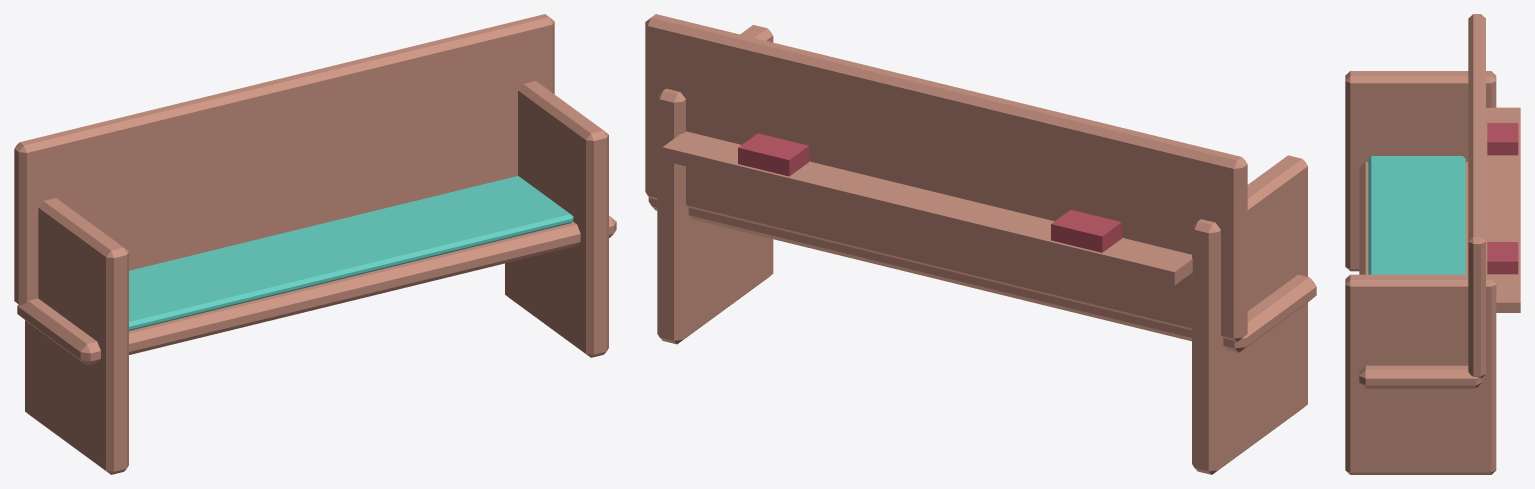
The picture shows the model from 3 angles, left to right: view 1: azimuth 30°, elevation 25°; view 2: azimuth 150°, elevation 25°; view 3: azimuth 270°, elevation 25°; orthographic projection. The views are drawn at different scales.
Visible parts, largest first — view 1: Back, Seat cushion, End panel, End panel.001, Seat; view 2: Back, End panel, Book rest, End panel.001, Seat, Hymnal cover.001, Hymnal cover; view 3: End panel.001, End panel, Seat cushion, Back, Book rest, Seat, Hymnal cover, Hymnal cover.001.
Boxes of the visible parts, x1=… form: Back: x1=14, y1=14, x2=554, y2=305; Seat cushion: x1=129, y1=176, x2=573, y2=330; End panel: x1=25, y1=198, x2=128, y2=474; End panel.001: x1=505, y1=81, x2=608, y2=357; Seat: x1=17, y1=216, x2=616, y2=365; Back: x1=645, y1=14, x2=1247, y2=341; End panel: x1=1192, y1=155, x2=1307, y2=474; Book rest: x1=662, y1=131, x2=1192, y2=285; End panel.001: x1=657, y1=25, x2=773, y2=344; Seat: x1=648, y1=197, x2=1316, y2=352; Hymnal cover.001: x1=738, y1=133, x2=808, y2=176; Hymnal cover: x1=1051, y1=209, x2=1121, y2=252; End panel.001: x1=1345, y1=274, x2=1496, y2=474; End panel: x1=1345, y1=71, x2=1496, y2=271; Seat cushion: x1=1368, y1=156, x2=1465, y2=274; Back: x1=1468, y1=14, x2=1485, y2=378; Book rest: x1=1486, y1=107, x2=1520, y2=312; Seat: x1=1359, y1=162, x2=1482, y2=388; Hymnal cover: x1=1487, y1=123, x2=1518, y2=155; Hymnal cover.001: x1=1487, y1=242, x2=1518, y2=274.
Size of the model in its own units: 210 by 106 by 68.5.
